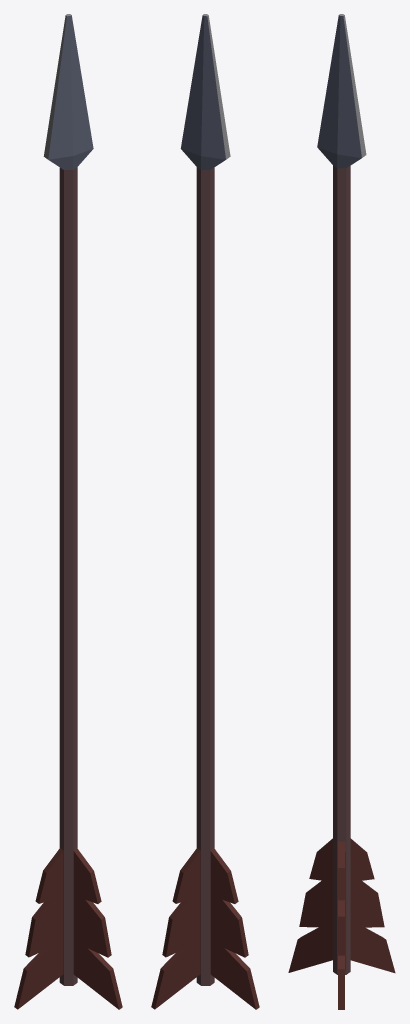
The model's file is arrow.glb.
The picture shows the model from 3 angles, left to right: view 1: azimuth 30°, elevation 25°; view 2: azimuth 150°, elevation 25°; view 3: azimuth 330°, elevation 25°; orthographic projection.
Parts seen in each view (by area): view 1: Arrow; view 2: Arrow; view 3: Arrow.
Part boxes in pixels (x1,y1,x2,y2): Arrow: [14, 14, 122, 1009]; Arrow: [151, 14, 259, 1009]; Arrow: [288, 14, 395, 1009].
Size of the model in its own units: 0.1269 by 1.46 by 0.146.
